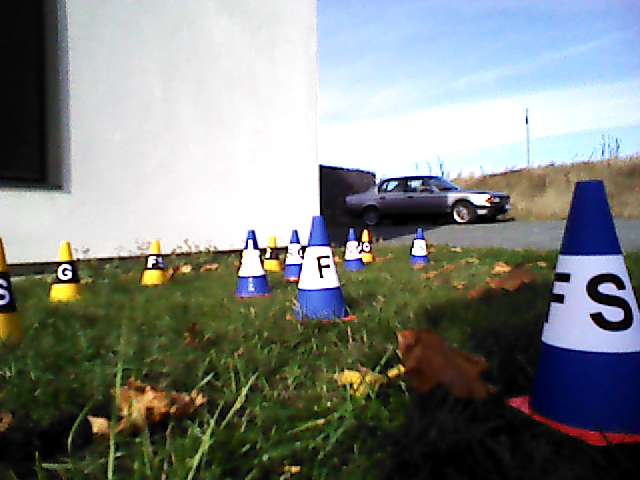bluecone: (531, 180, 640, 424), (294, 216, 344, 318), (238, 229, 269, 293), (284, 230, 304, 276), (345, 228, 363, 270)
yellowcone: (1, 237, 22, 349), (51, 242, 81, 301), (142, 240, 166, 283), (264, 237, 280, 271)
